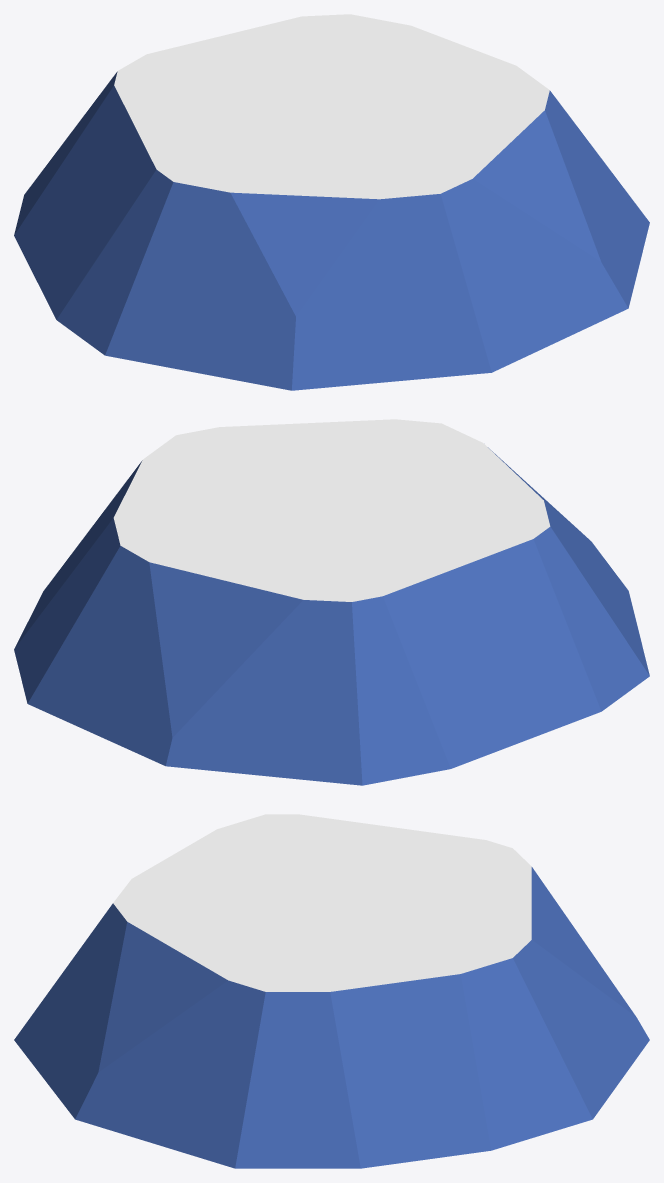
Rendered from Rock028.fbx.
3 views of the same model, one above another, from view 1: azimuth 30°, elevation 25°; view 2: azimuth 150°, elevation 25°; view 3: azimuth 270°, elevation 25° (orthographic). The views are drawn at different scales.
Visible parts, largest first — view 1: Rock028; view 2: Rock028; view 3: Rock028.
Part boxes in pixels (x1=…): Rock028: x1=14, y1=14, x2=649, y2=390; Rock028: x1=14, y1=419, x2=649, y2=785; Rock028: x1=14, y1=814, x2=649, y2=1168.
Bounding box in the file's own units: 101 × 25.06 × 105.
